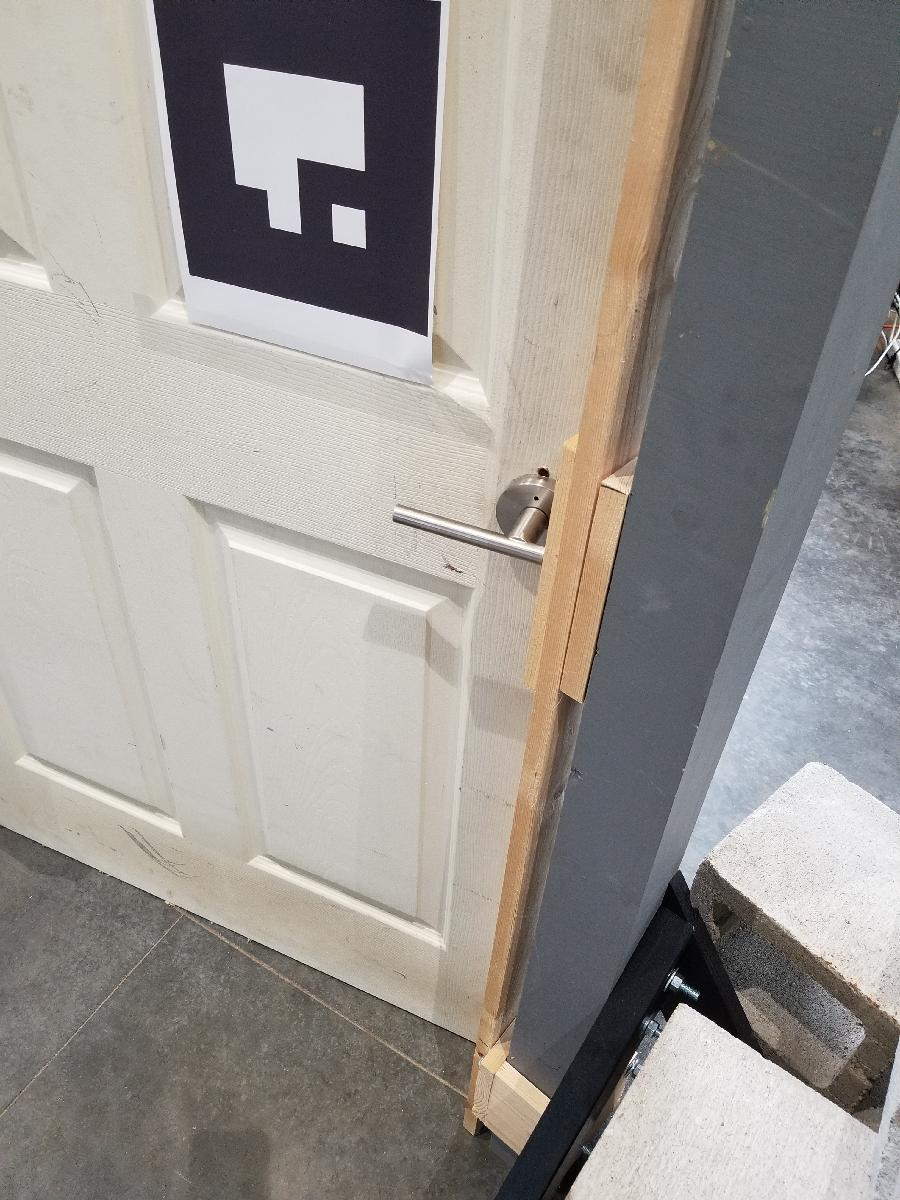doorHandle: (386, 467, 561, 580)
